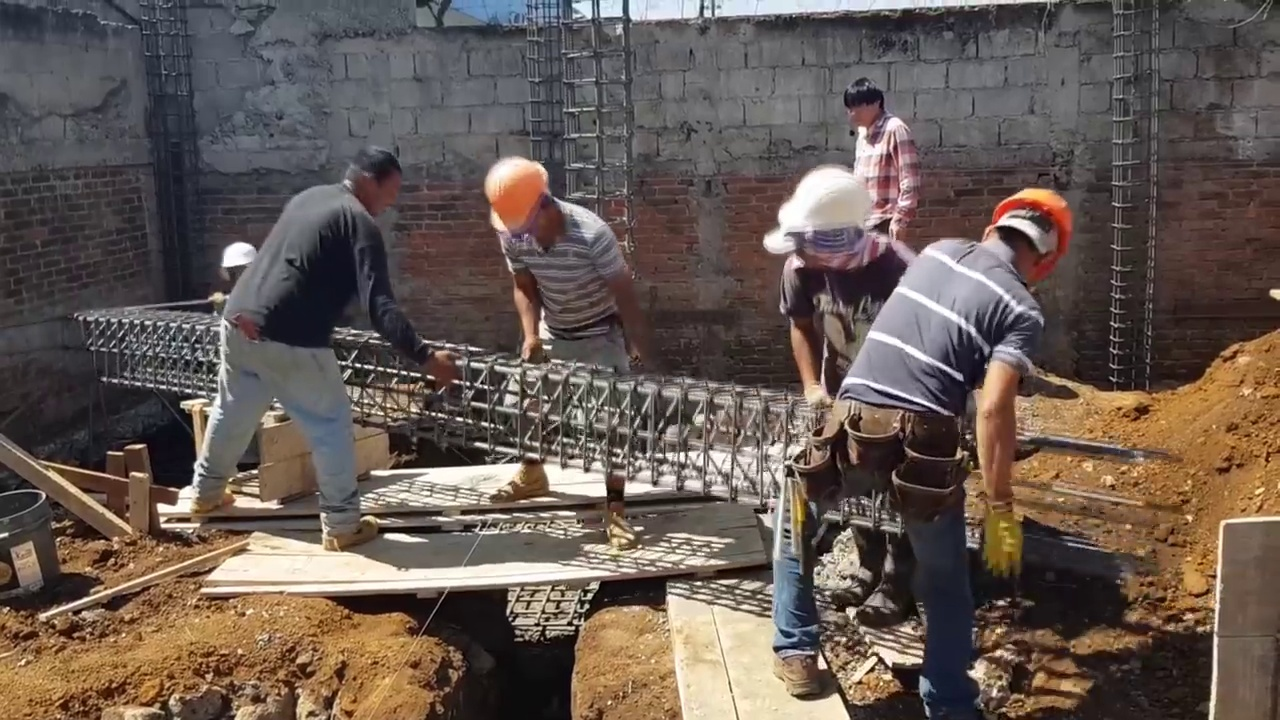helmet: (994, 184, 1076, 278), (774, 167, 871, 239), (487, 161, 556, 234), (215, 240, 254, 282)
helmet-off: (339, 145, 399, 219), (845, 75, 889, 129)
helmet-on: (972, 182, 1080, 294), (771, 167, 877, 275), (483, 153, 573, 250)
person: (790, 169, 1066, 681), (188, 159, 463, 547), (494, 154, 659, 482), (764, 181, 924, 408), (846, 73, 923, 241)
